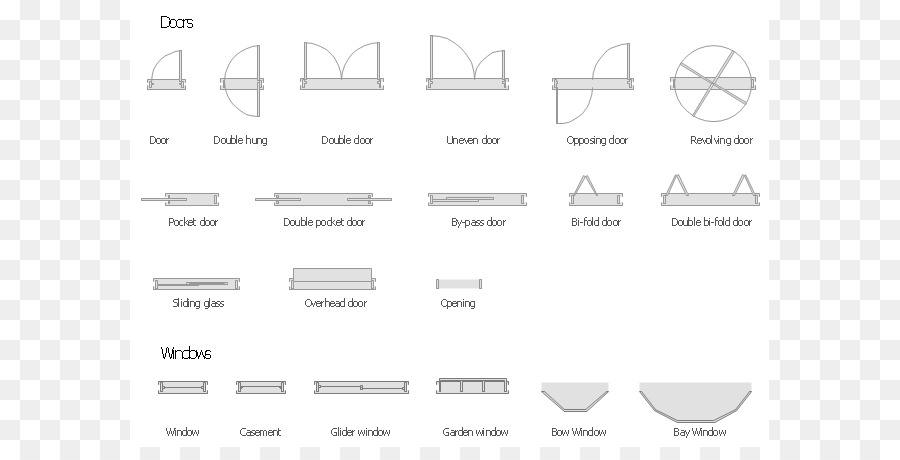door: (662, 31, 763, 128), (544, 35, 640, 127), (647, 166, 765, 213), (250, 180, 396, 214), (420, 26, 512, 78), (218, 41, 269, 122), (300, 34, 392, 76), (417, 184, 539, 213), (143, 44, 190, 96), (565, 175, 630, 210), (139, 188, 225, 211)
window: (314, 382, 412, 392), (236, 380, 285, 395), (159, 380, 206, 395)
